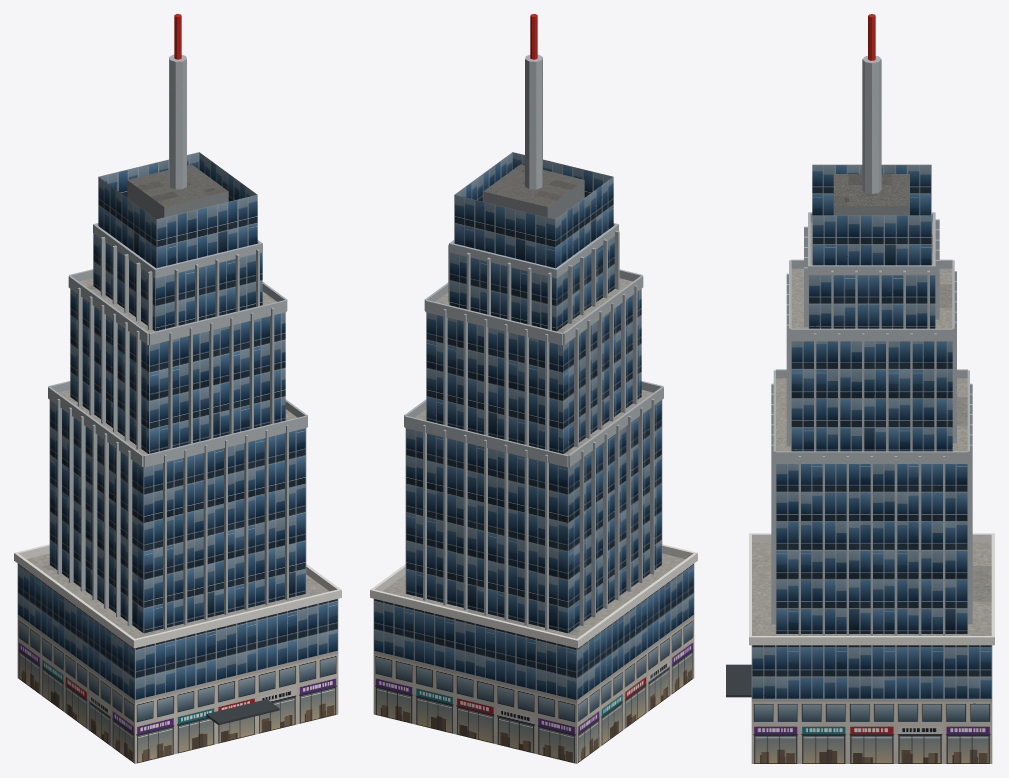
Rendered from OW_CaoOc_VP_VayDoc_64.fbx.
3 views of the same model, side by side, from view 1: azimuth 30°, elevation 25°; view 2: azimuth 150°, elevation 25°; view 3: azimuth 270°, elevation 25° (orthographic). The views are drawn at different scales.
Parts seen in each view (by area): view 1: OW_CaoOc_VP_VayDoc_64_LOD0; view 2: OW_CaoOc_VP_VayDoc_64_LOD0; view 3: OW_CaoOc_VP_VayDoc_64_LOD0.
Part boxes in pixels (x1,y1,x2,y2): OW_CaoOc_VP_VayDoc_64_LOD0: [14, 14, 341, 763]; OW_CaoOc_VP_VayDoc_64_LOD0: [370, 14, 697, 763]; OW_CaoOc_VP_VayDoc_64_LOD0: [726, 14, 994, 763].
Size of what is drawn, in the model's own units: 30.7 by 96 by 33.55.
